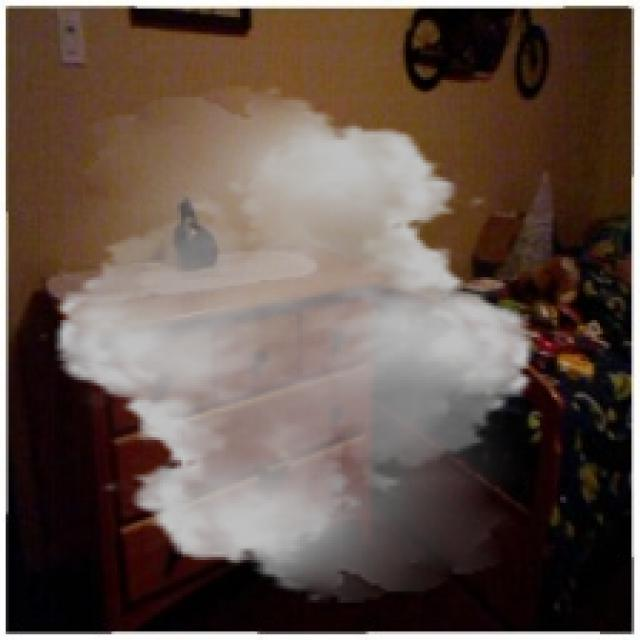smoke: (34, 86, 554, 603)
